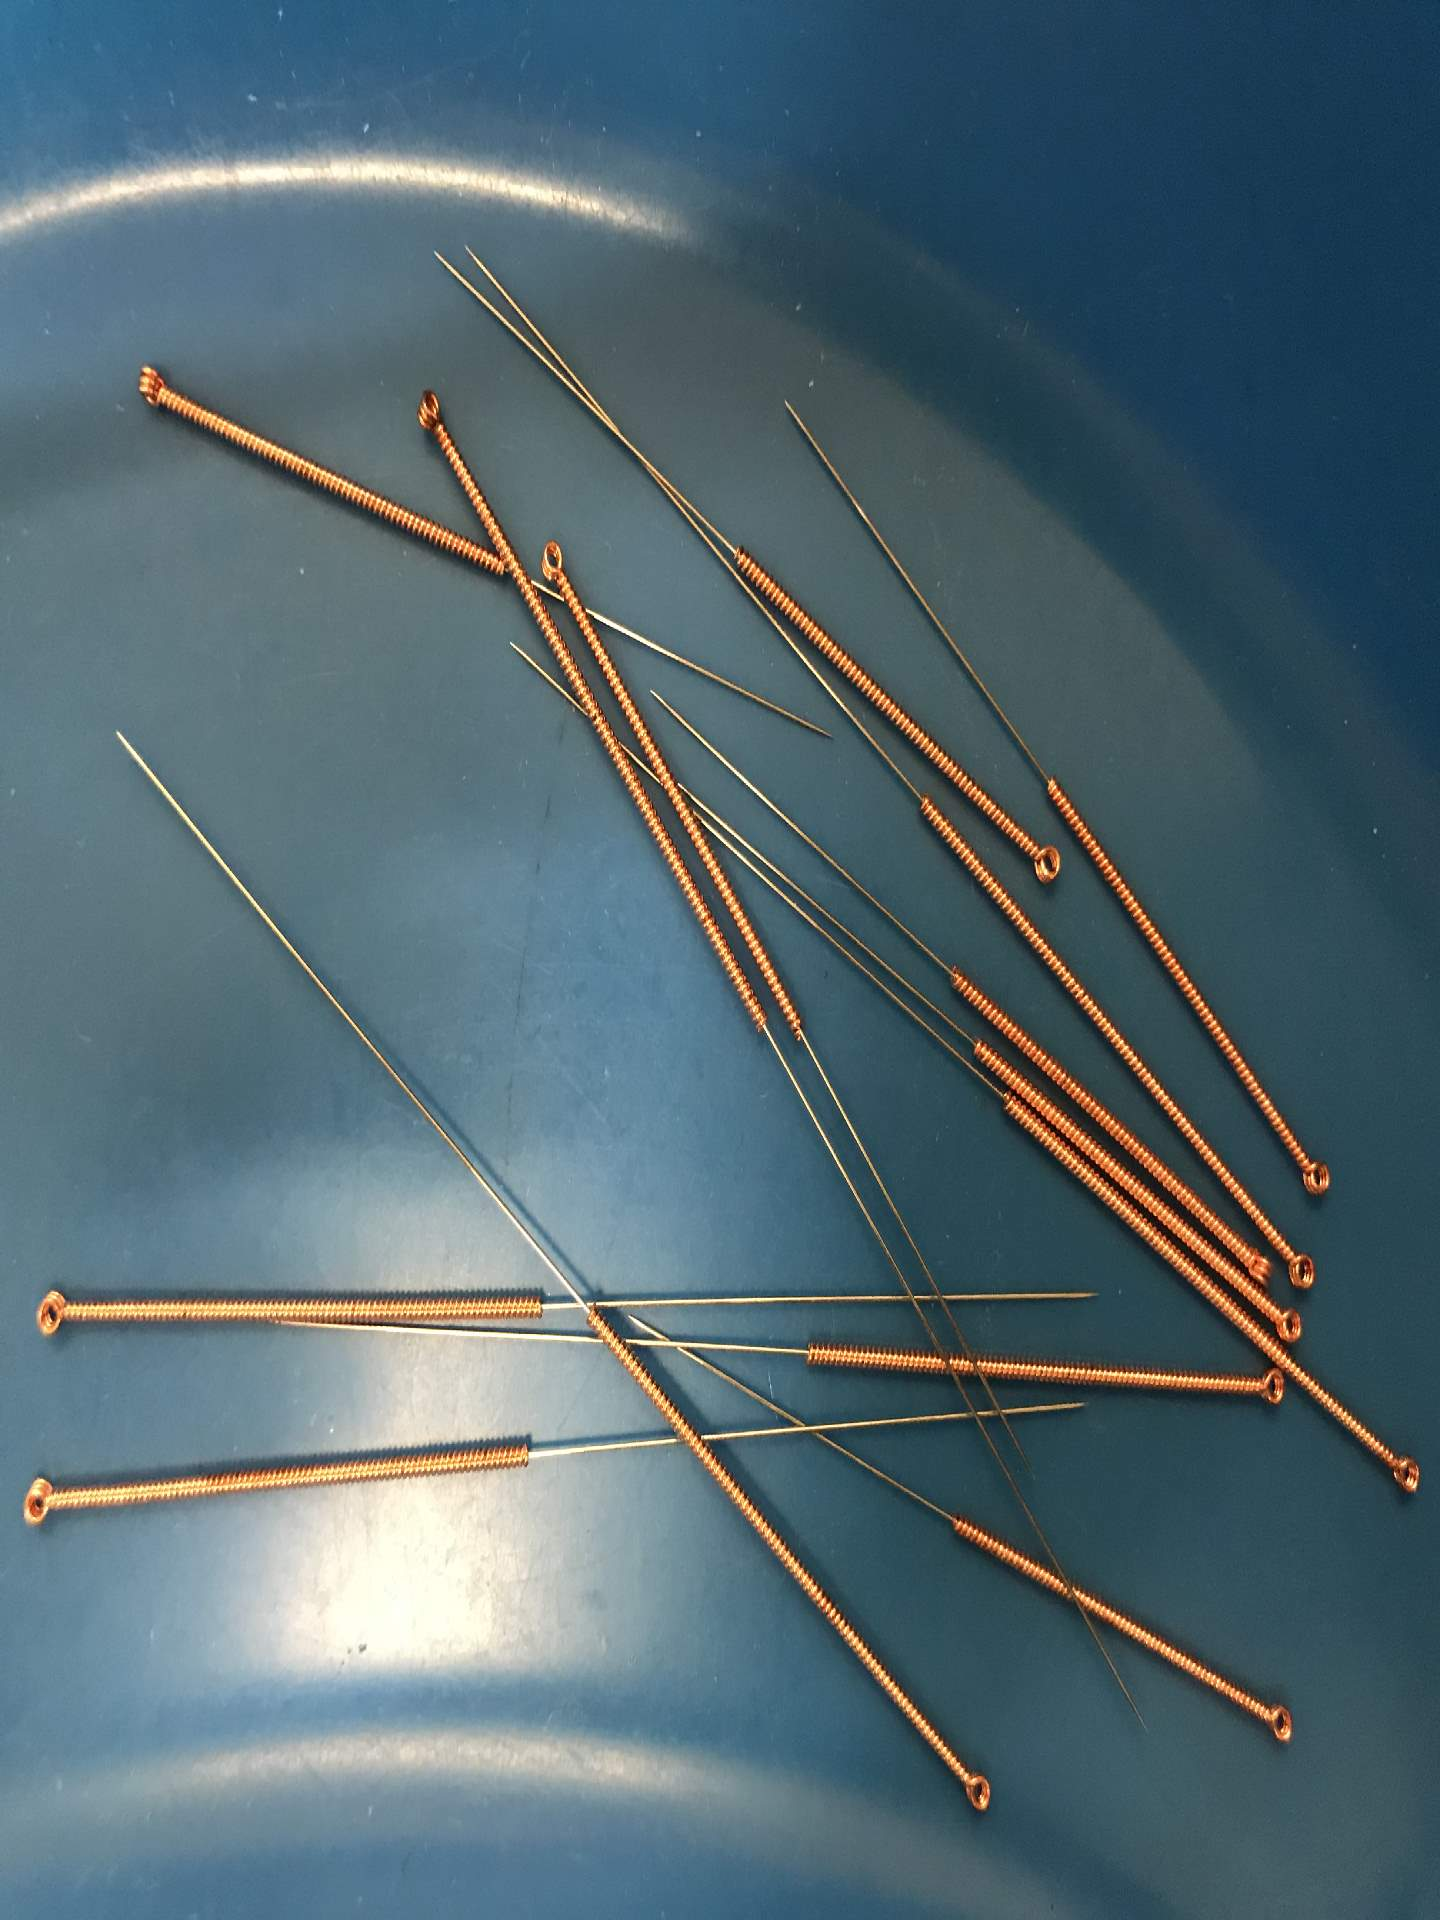needle: (18, 1274, 89, 1356), (6, 1463, 76, 1544), (116, 354, 188, 420), (945, 1754, 1004, 1826), (1010, 825, 1072, 893), (1287, 1138, 1342, 1214), (1370, 1439, 1432, 1504), (532, 522, 582, 594), (1251, 1687, 1304, 1754), (405, 381, 455, 451), (1274, 1231, 1321, 1299), (1236, 1364, 1289, 1414), (1240, 1238, 1280, 1299), (1268, 1302, 1308, 1349)
